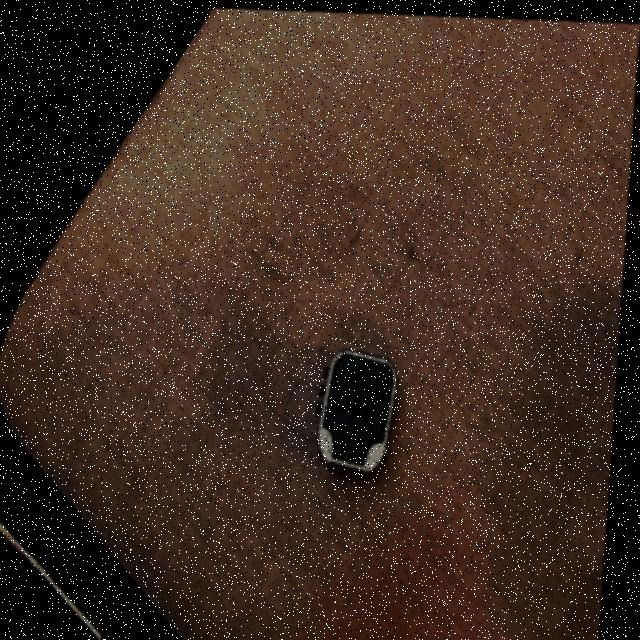adapter: (317, 345, 404, 470)
